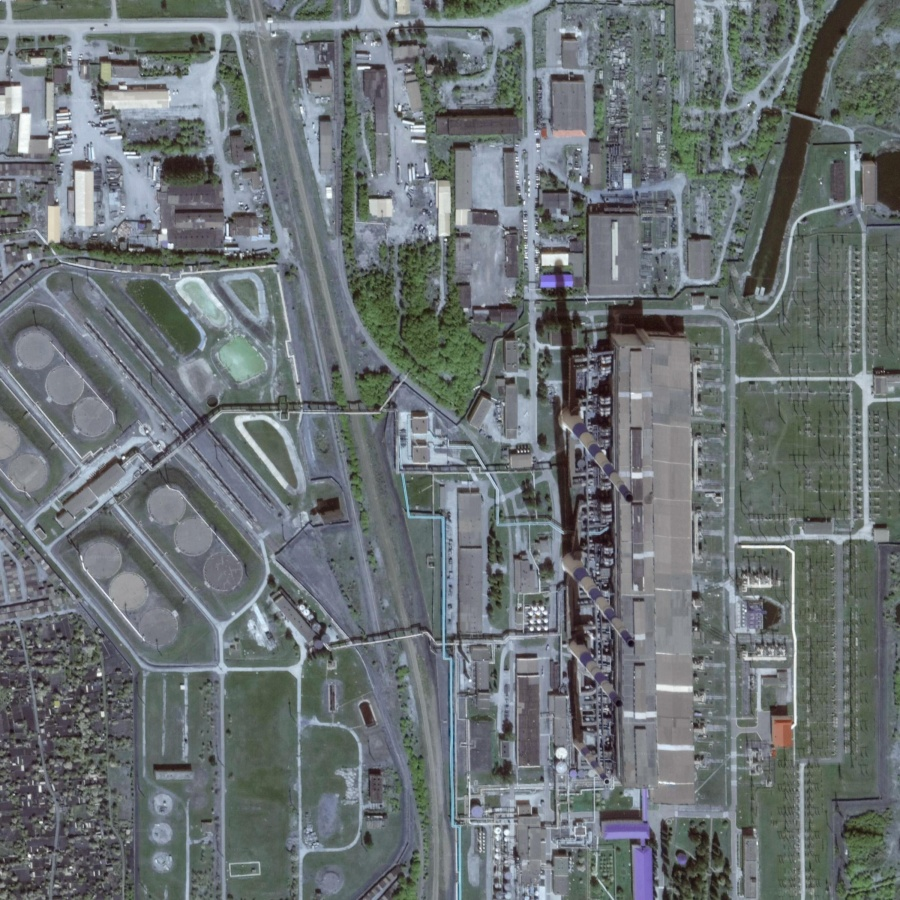PowerPlant: (519, 325, 678, 794)
